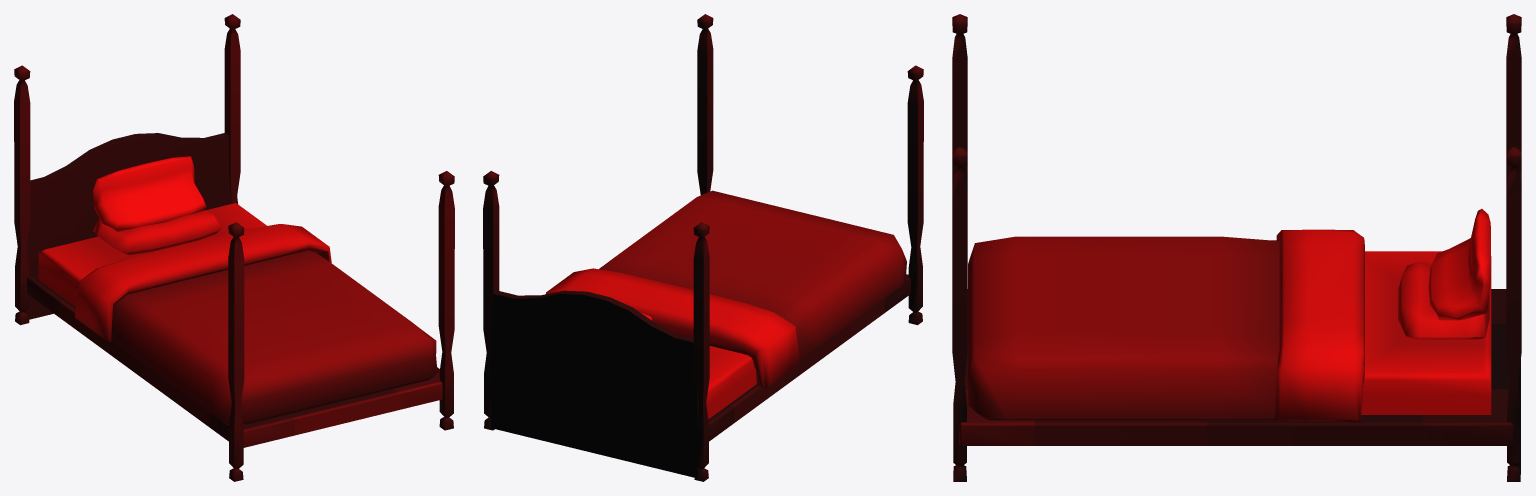
The model's file is FourPostBed001.glb.
3 renders of one model, left to right at view 1: azimuth 30°, elevation 25°; view 2: azimuth 150°, elevation 25°; view 3: azimuth 270°, elevation 25°, orthographic. The views are drawn at different scales.
Parts seen in each view (by area): view 1: FourPostBed001; view 2: FourPostBed001; view 3: FourPostBed001.
Boxes of the visible parts, x1,y1,x2,y2 form: FourPostBed001: (14,14,454,481); FourPostBed001: (483,14,923,481); FourPostBed001: (952,14,1521,481).
Bounding box in the file's own units: 7.94 × 8.49 × 13.19.
